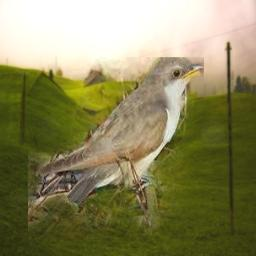Cuckoo: (28, 57, 204, 239)
